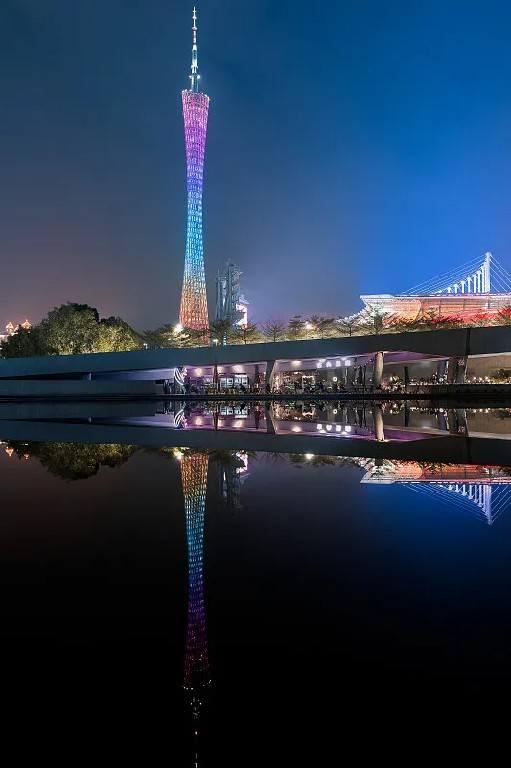Canton: (179, 5, 210, 332)
